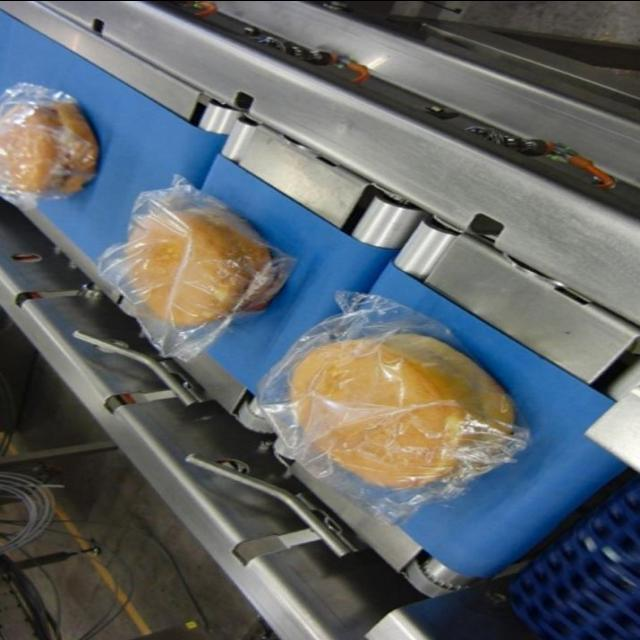food: (257, 323, 507, 507), (119, 181, 275, 337)
